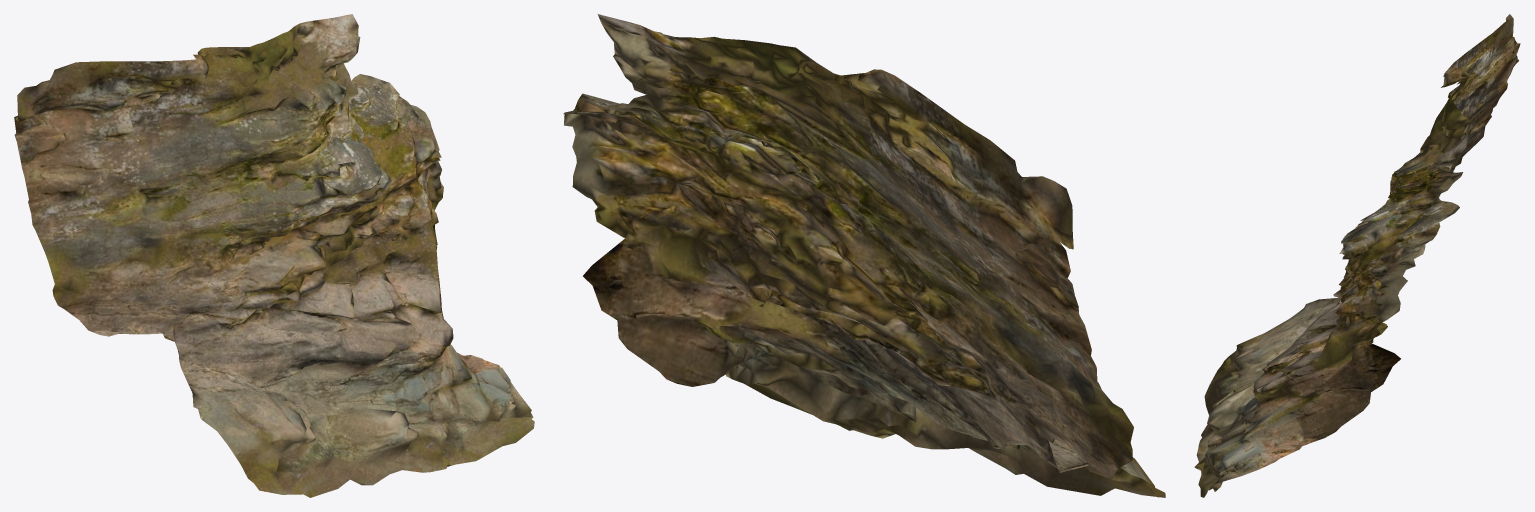
File: rock_face_02.glb
The picture shows the model from 3 angles, left to right: view 1: azimuth 30°, elevation 25°; view 2: azimuth 150°, elevation 25°; view 3: azimuth 270°, elevation 25°; orthographic projection. The views are drawn at different scales.
Visible parts, largest first — view 1: rock_face_02; view 2: rock_face_02; view 3: rock_face_02.
Part boxes in pixels (box(x1,y1,x2,y2)): rock_face_02: box(14, 14, 534, 497); rock_face_02: box(563, 14, 1165, 497); rock_face_02: box(1194, 14, 1520, 497).
Size of the model in its own units: 2.71 by 2.47 by 2.13.
Materials: 1 (1 with a texture image).
